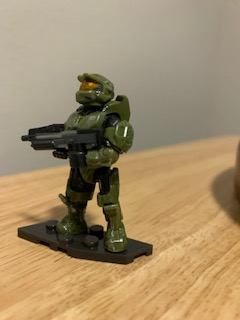chief: (52, 72, 135, 254)
rifle: (19, 123, 102, 155)
spartan: (50, 70, 133, 252)
